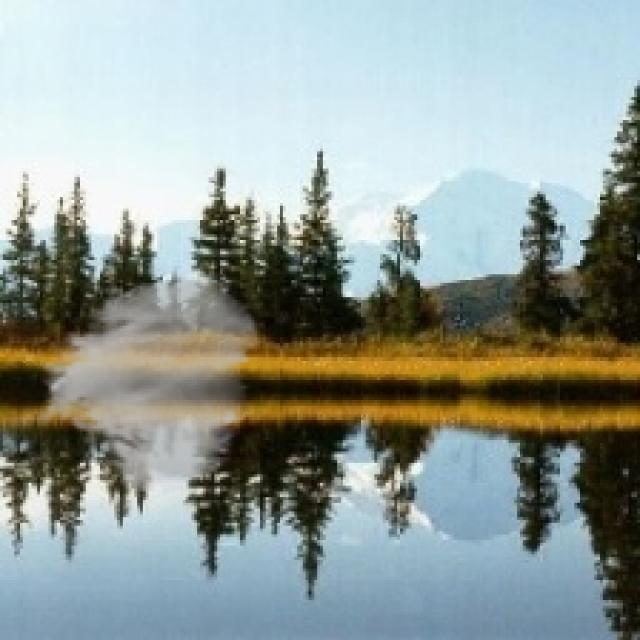smoke: (31, 272, 263, 497)
